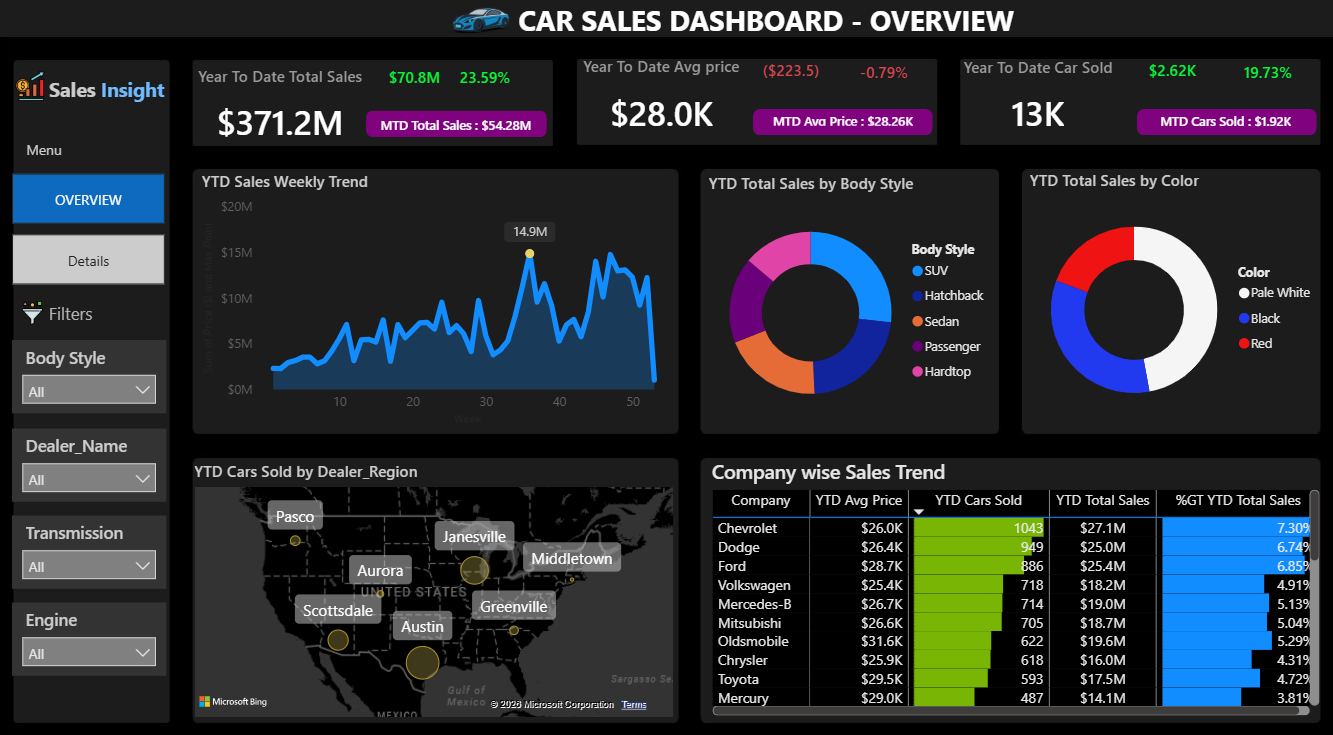

The dashboard page shown, as its layout file describes it:
{"tool":"powerbi","page":{"name":"OVERVIEW","canvas":[1280,720],"ordinal":0},"visuals":[{"type":"shape","box":[1088.3,108.3,171.7,25],"z":0},{"type":"shape","box":[721.7,108.3,171.7,25],"z":1000},{"type":"cardVisual","title":"MTD KPI","fields":{"Data":["car_data.MTD Avg Price KPI"]},"box":[705,96.7,206.7,46.7],"z":2000},{"type":"shape","box":[352.7,110,172.7,25.5],"z":3000},{"type":"cardVisual","title":"Year To Date Total Sales","fields":{"Data":["car_data.YTD Total Sales"]},"box":[178.6,67.1,182.9,85.7],"z":4000},{"type":"cardVisual","fields":{"Data":["car_data.Sale Difference"]},"box":[344.4,51.1,110,50],"z":5000},{"type":"cardVisual","fields":{"Data":["car_data.YoY Sales Growth"]},"box":[411.1,51.1,110,50],"z":6000},{"type":"cardVisual","title":"MTD KPI","fields":{"Data":["car_data.MTD KPI"]},"box":[335,98.3,206.7,48.3],"z":7000},{"type":"cardVisual","title":"Year To Date Avg price","fields":{"Data":["car_data.YTD Avg Price"]},"box":[542,58,186,86],"z":8000},{"type":"cardVisual","fields":{"Data":["car_data.Avg Price Diff"]},"box":[691.7,45,133.3,53.3],"z":9000},{"type":"cardVisual","fields":{"Data":["car_data.YoY Avg Price Growth"]},"box":[791.7,46.7,110,50],"z":10000},{"type":"cardVisual","title":"Year To Date Car Sold","fields":{"Data":["car_data.YTD Cars Sold"]},"box":[901.7,58.3,186.7,85],"z":11000},{"type":"cardVisual","fields":{"Data":["car_data.Cars Sold Diff"]},"box":[1060,45,125,53.3],"z":12000},{"type":"cardVisual","fields":{"Data":["car_data.YoY Car Sold Growth"]},"box":[1158.3,46.7,110,50],"z":13000},{"type":"cardVisual","title":"MTD KPI","fields":{"Data":["car_data.MTD Cars Sold KPI"]},"box":[1074.3,97.1,198.6,45.7],"z":14000},{"type":"areaChart","title":"YTD Sales Weekly Trend","fields":{"Category":["Calendar Table.Week"],"Y":["Sum(car_data.Price ($))","car_data.Max Point"]},"box":[190,167.8,458.9,247.8],"z":15000},{"type":"donutChart","fields":{"Category":["car_data.Body Style"],"Y":["car_data.YTD Total Sales"]},"box":[675,168.3,281.7,248.3],"z":16000},{"type":"donutChart","fields":{"Y":["car_data.YTD Total Sales"],"Category":["car_data.Color"]},"box":[981.7,166.7,286.7,248.3],"z":17000},{"type":"map","fields":{"Category":["car_data.Dealer_Region"],"Size":["car_data.YTD Cars Sold"]},"box":[183.3,443.3,466.7,250],"z":18000},{"type":"tableEx","title":"Company wise Sales Trend","fields":{"Values":["car_data.Company","car_data.YTD Avg Price","car_data.YTD Cars Sold","car_data.YTD Total Sales","Divide(car_data.YTD Total Sales, ScopedEval(car_data.YTD Total Sales, []))"]},"box":[677.5,442.5,590,250],"z":19000},{"type":"textbox","box":[438.9,0,592.2,45.6],"z":20000},{"type":"image","box":[433.3,2.2,56.7,37.8],"z":21000},{"type":"slicer","fields":{"Values":["car_data.Body Style"]},"box":[14.4,329.9,147.1,70],"z":22000},{"type":"slicer","fields":{"Values":["car_data.Dealer_Name"]},"box":[14.4,414.2,147.1,70],"z":23000},{"type":"slicer","fields":{"Values":["car_data.Transmission"]},"box":[14.4,497,147.1,70],"z":24000},{"type":"slicer","fields":{"Values":["car_data.Engine"]},"box":[14.4,579.9,147.1,70],"z":25000},{"type":"textbox","box":[23.3,133.3,44.4,30],"z":26000},{"type":"pageNavigator","box":[14.4,171.1,146.7,106.7],"z":27000},{"type":"textbox","box":[38.9,71.1,132.2,35.6],"z":28000},{"type":"image","box":[14.4,73.3,34.4,27.8],"z":29000},{"type":"textbox","box":[44.4,287.6,71.1,31.1],"z":30000},{"type":"image","box":[21.1,288.8,24.4,28.9],"z":31000}]}

Visuals, with their boxes in screenshot pixels (x1, y1, x2, y2), scaled from the page's 1280x720 canvas onto the 1333x735 screenshot:
shape: detection(1133, 111, 1312, 136)
shape: detection(752, 111, 930, 136)
"MTD KPI" cardVisual: detection(734, 99, 949, 146)
shape: detection(367, 112, 547, 138)
"Year To Date Total Sales" cardVisual: detection(186, 68, 376, 156)
cardVisual - car_data.Sale Difference: detection(359, 52, 473, 103)
cardVisual - car_data.YoY Sales Growth: detection(428, 52, 543, 103)
"MTD KPI" cardVisual: detection(349, 100, 564, 150)
"Year To Date Avg price" cardVisual: detection(564, 59, 758, 147)
cardVisual - car_data.Avg Price Diff: detection(720, 46, 859, 100)
cardVisual - car_data.YoY Avg Price Growth: detection(824, 48, 939, 99)
"Year To Date Car Sold" cardVisual: detection(939, 60, 1133, 146)
cardVisual - car_data.Cars Sold Diff: detection(1104, 46, 1234, 100)
cardVisual - car_data.YoY Car Sold Growth: detection(1206, 48, 1321, 99)
"MTD KPI" cardVisual: detection(1119, 99, 1326, 146)
"YTD Sales Weekly Trend" areaChart: detection(198, 171, 676, 424)
donutChart - car_data.Body Style x car_data.YTD Total Sales: detection(703, 172, 996, 425)
donutChart - car_data.YTD Total Sales x car_data.Color: detection(1022, 170, 1321, 424)
map - car_data.Dealer_Region x car_data.YTD Cars Sold: detection(191, 453, 677, 708)
"Company wise Sales Trend" tableEx: detection(706, 452, 1320, 707)
textbox: detection(457, 0, 1074, 47)
image: detection(451, 2, 510, 41)
slicer - car_data.Body Style: detection(15, 337, 168, 408)
slicer - car_data.Dealer_Name: detection(15, 423, 168, 494)
slicer - car_data.Transmission: detection(15, 507, 168, 579)
slicer - car_data.Engine: detection(15, 592, 168, 663)
textbox: detection(24, 136, 71, 167)
pageNavigator: detection(15, 175, 168, 284)
textbox: detection(41, 73, 178, 109)
image: detection(15, 75, 51, 103)
textbox: detection(46, 294, 120, 325)
image: detection(22, 295, 47, 324)
